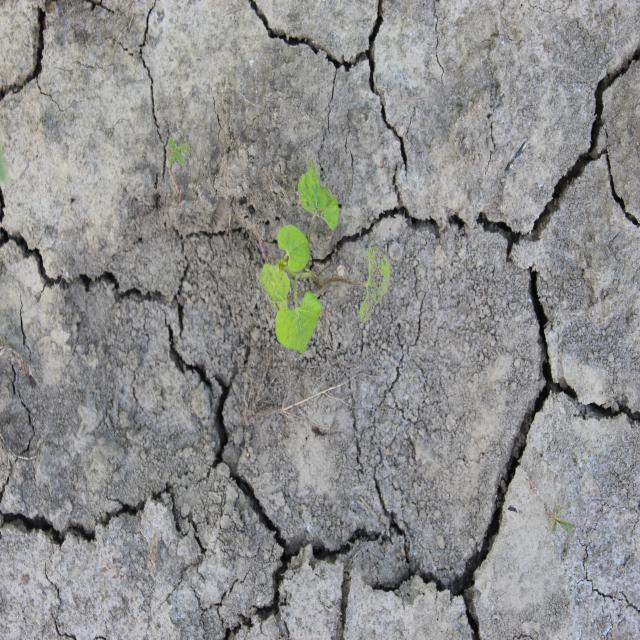MorningGlory: (259, 156, 392, 356)
Purslane: (167, 135, 191, 211)
